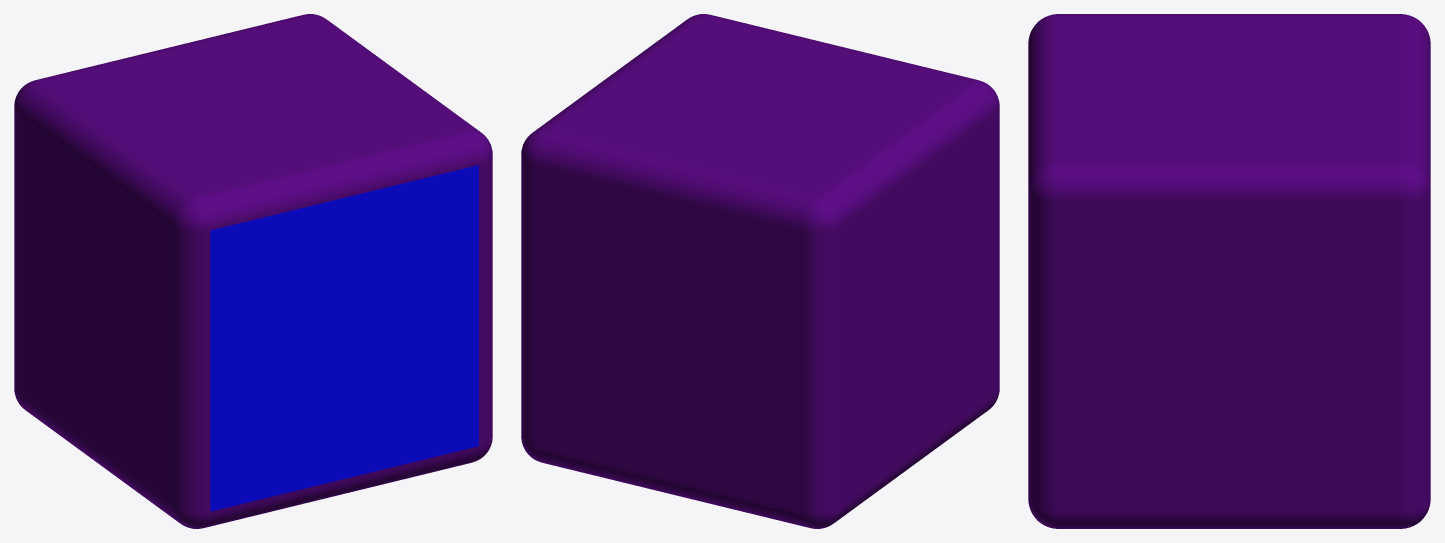
The picture shows the model from 3 angles, left to right: view 1: azimuth 30°, elevation 25°; view 2: azimuth 150°, elevation 25°; view 3: azimuth 270°, elevation 25°; orthographic projection. The views are drawn at different scales.
Parts seen in each view (by area): view 1: Cube.016; view 2: Cube.016; view 3: Cube.016.
Part boxes in pixels (x1,y1,x2,y2): Cube.016: (14,14,492,528); Cube.016: (521,14,999,528); Cube.016: (1028,14,1430,528).
Size of the model in its own units: 200 by 200 by 200.
